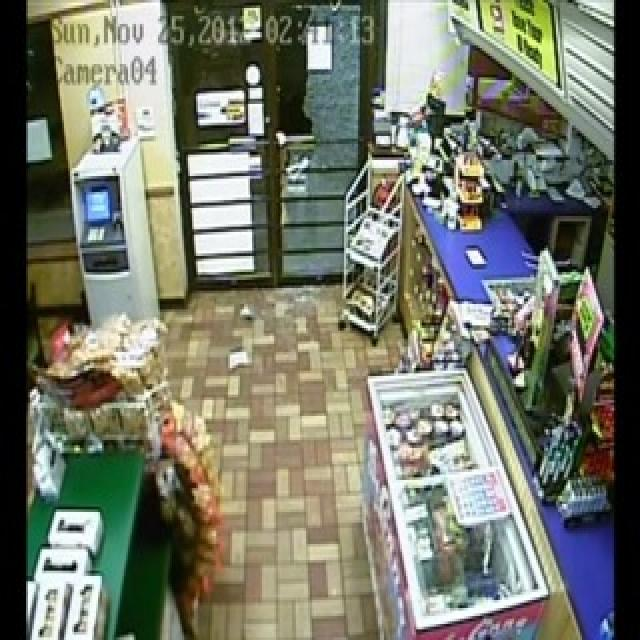burglary: (263, 60, 330, 200)
